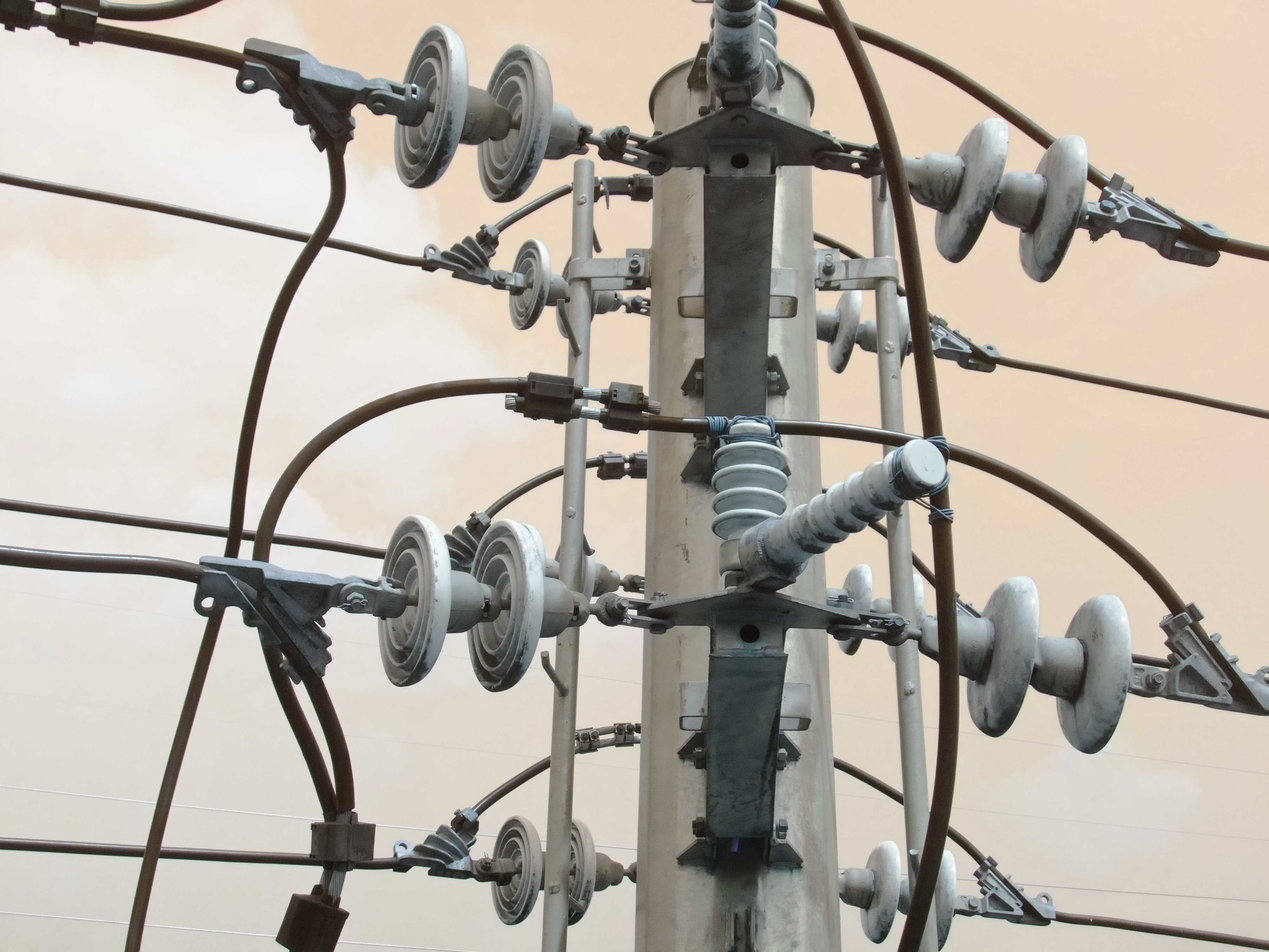severe_soiling_no_discharge_whole: (366, 506, 596, 709), (919, 563, 1143, 764), (387, 14, 596, 208), (728, 434, 948, 594), (898, 112, 1092, 284), (479, 806, 630, 932), (838, 836, 959, 950), (704, 417, 789, 575), (504, 237, 626, 343), (817, 285, 912, 381), (702, 1, 779, 109), (822, 560, 895, 664)
